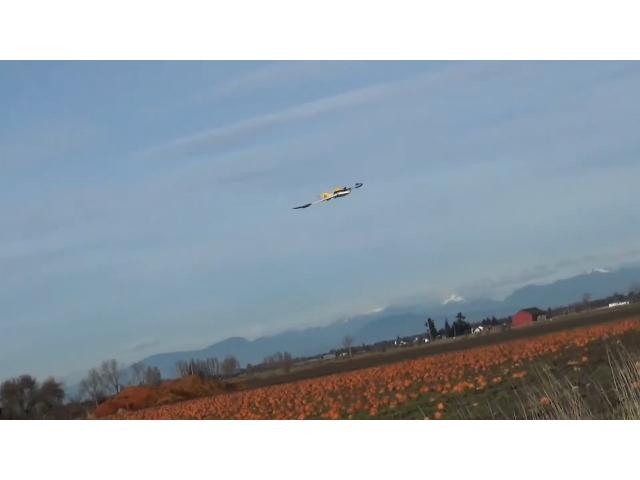Anti-Drone: (293, 184, 361, 210)
